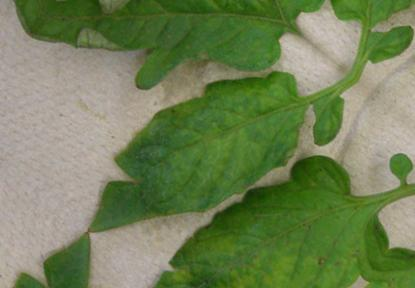Tomato leaf mosaic virus: (75, 33, 322, 288), (17, 0, 297, 180), (148, 108, 415, 288)
